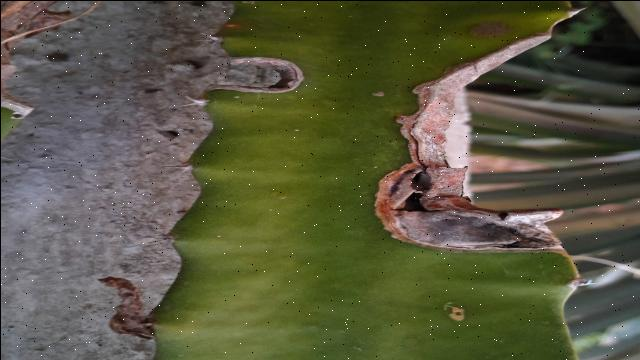stemcanker: (445, 301, 469, 325)
